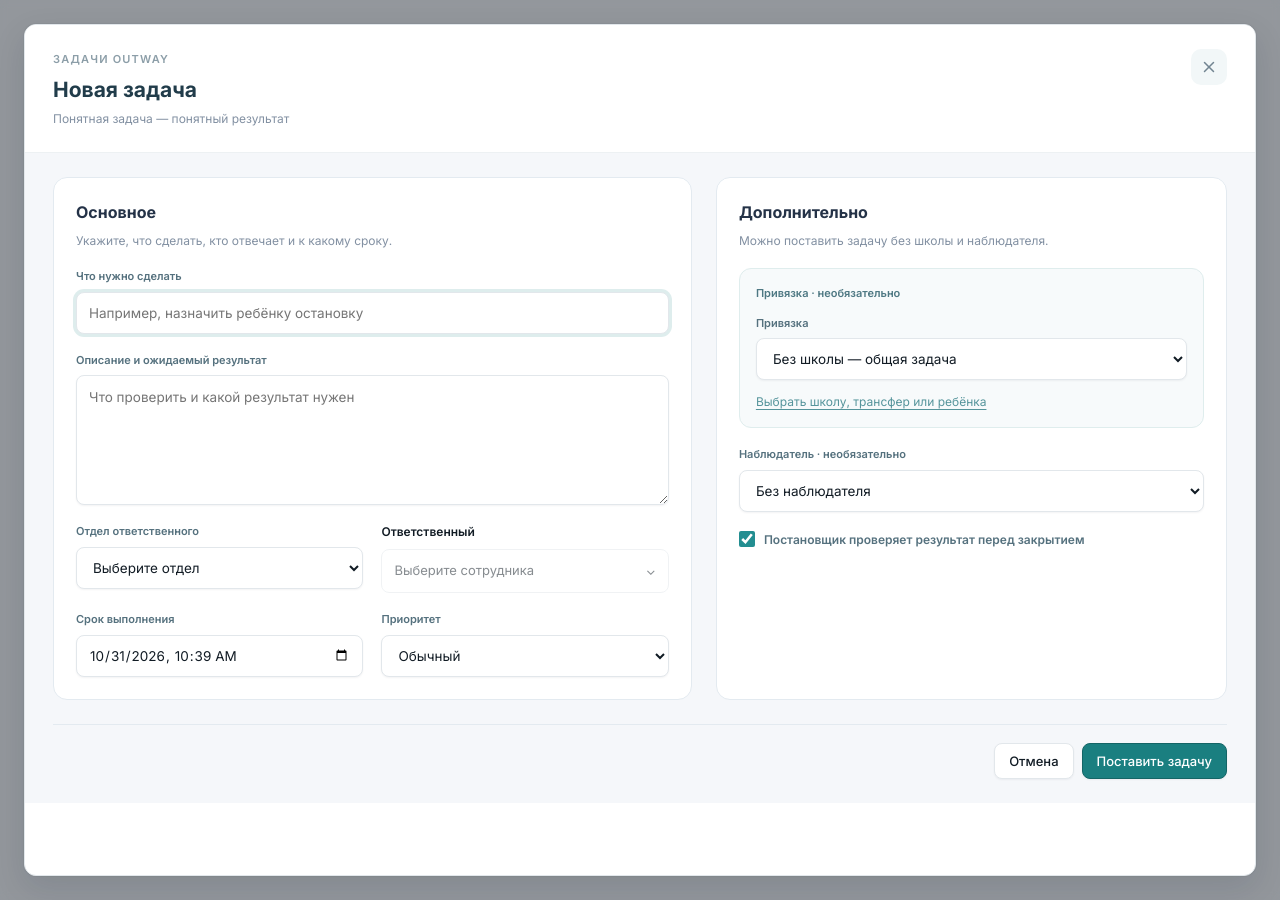
Test: old server never silently saves only the first selected participant
This screenshot has width=1280, height=900.
Step 1. Type "Общая задача" into the field labelled "Что нужно сделать" → [372, 313], box [76,292,669,334]
Step 2. Select "Менеджеры" in the dropdown labelled "Отдел ответственного" → [220, 568], box [76,547,363,589]
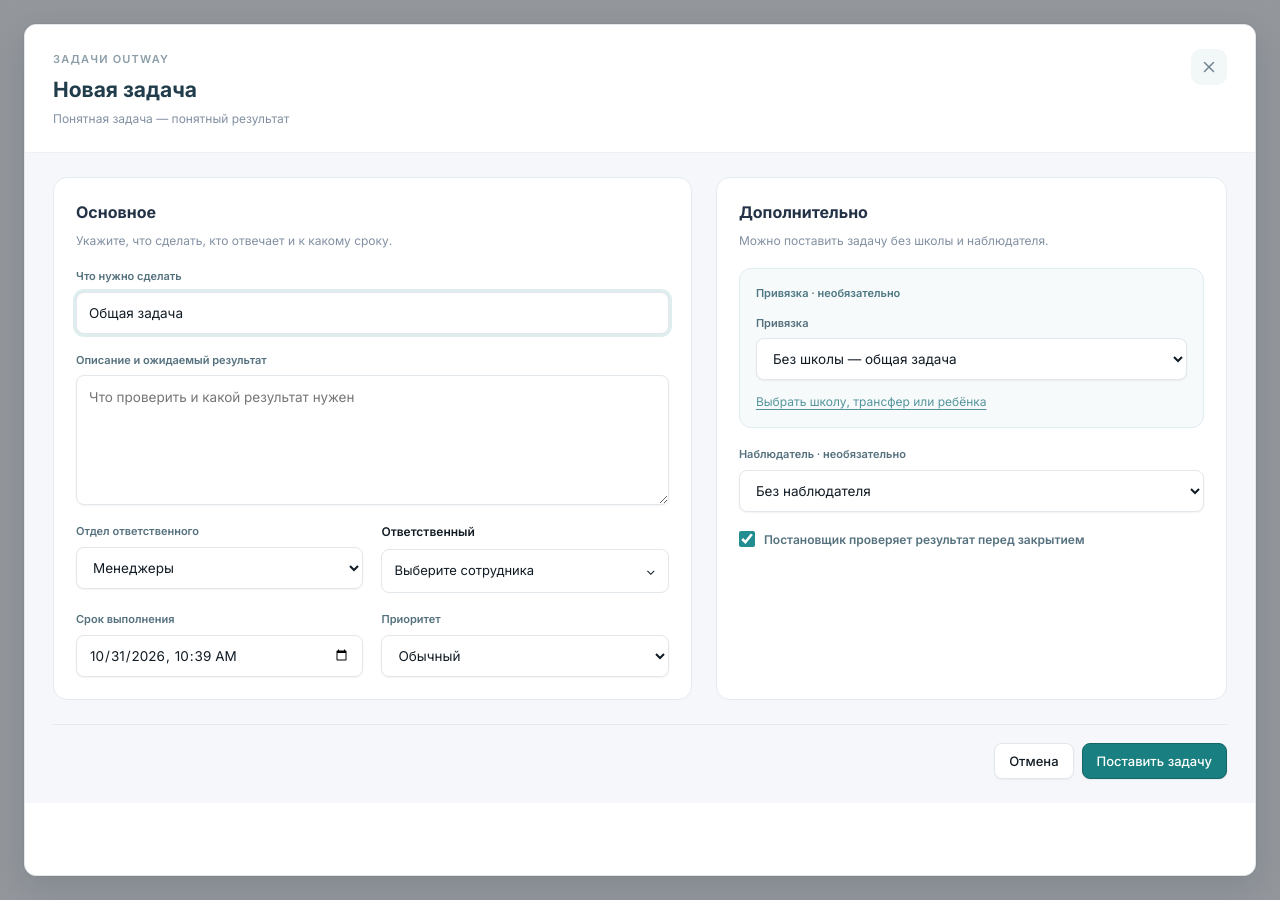
Step 3. Click the button with aria-label "Ответственный" → [525, 571], box [381,549,669,593]
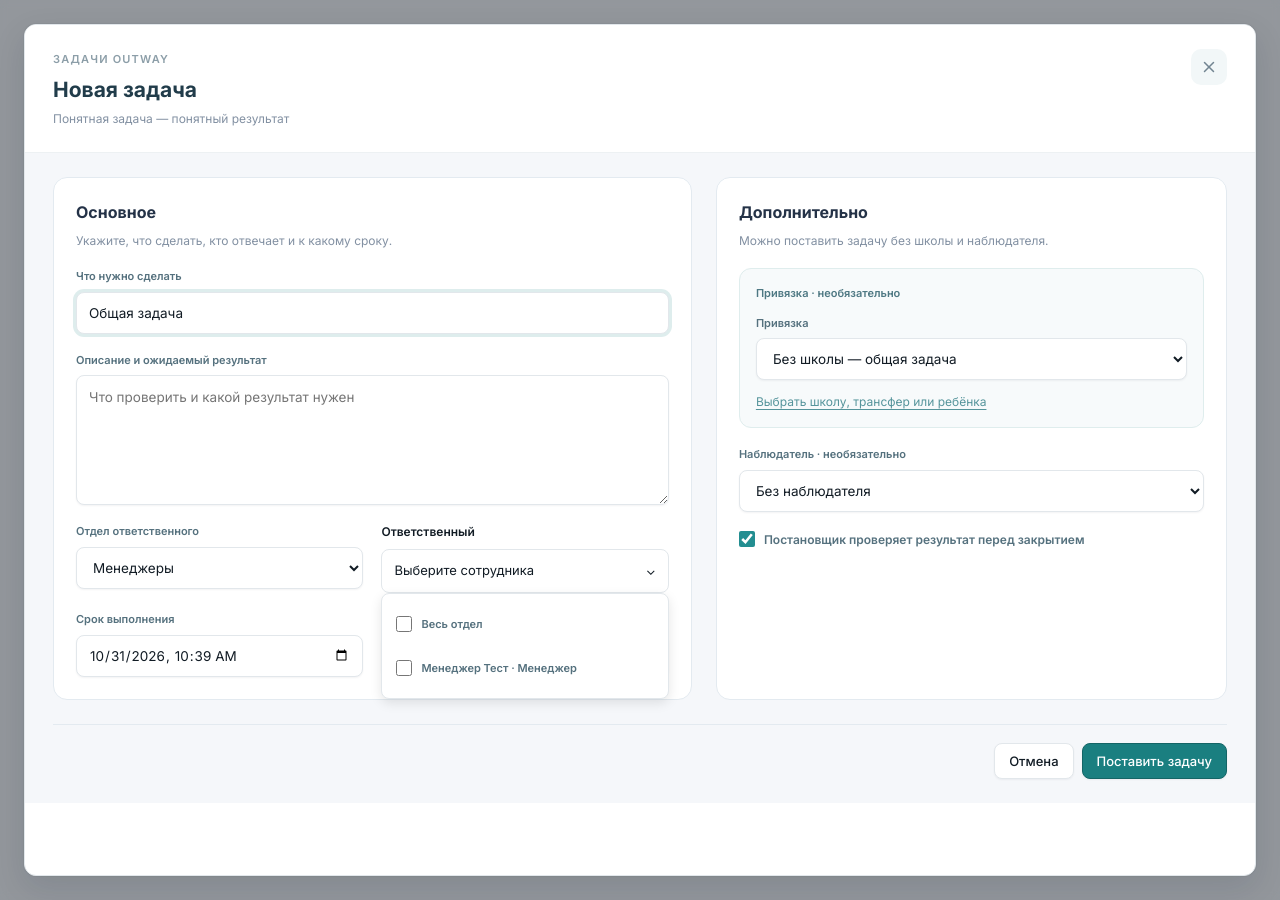
Step 4. Click the checkbox labelled "Менеджер Тест · Менеджер" → [404, 668], box [396,660,412,676]
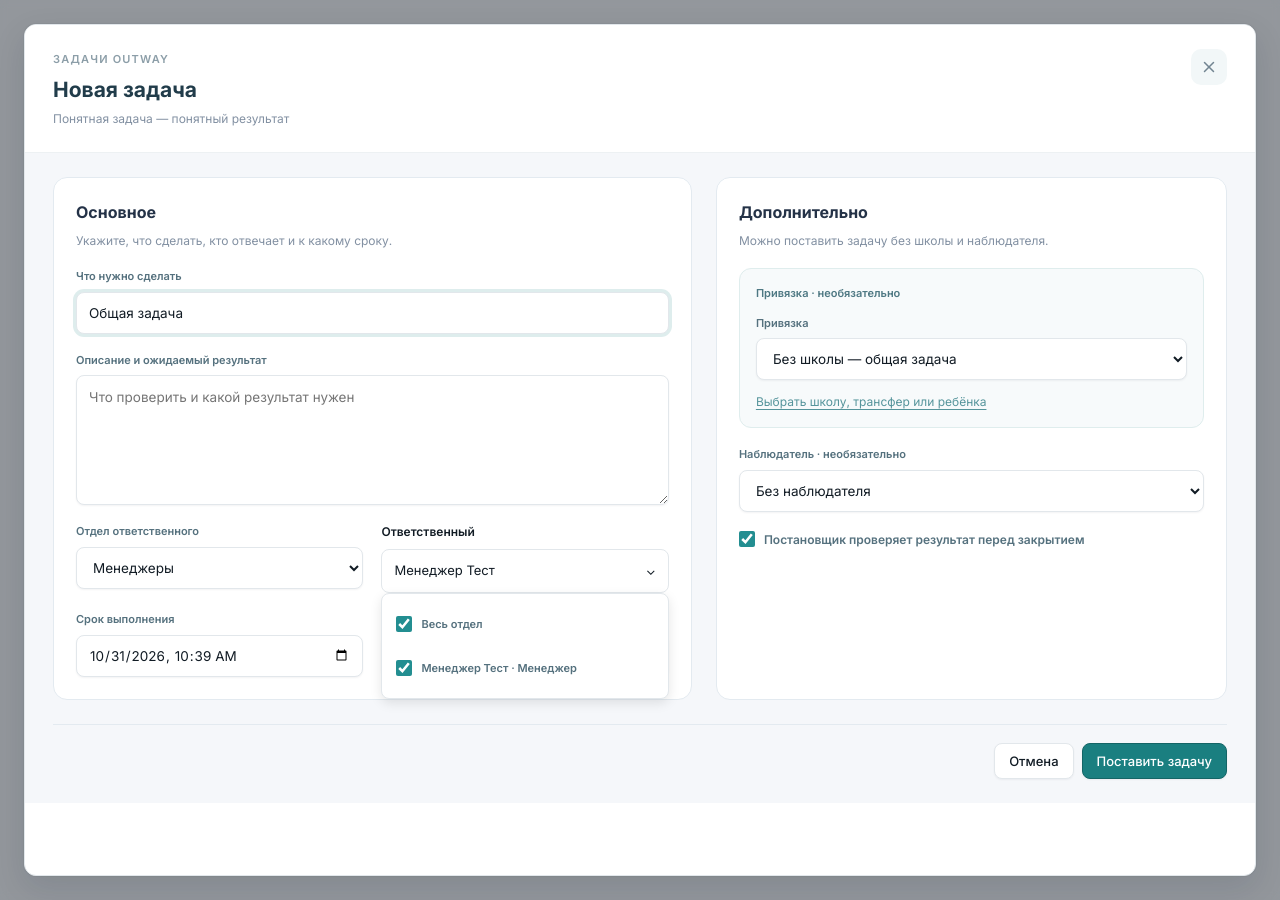
Step 5. Select "Логистика" in the dropdown labelled "Отдел ответственного" → [220, 568], box [76,547,363,589]
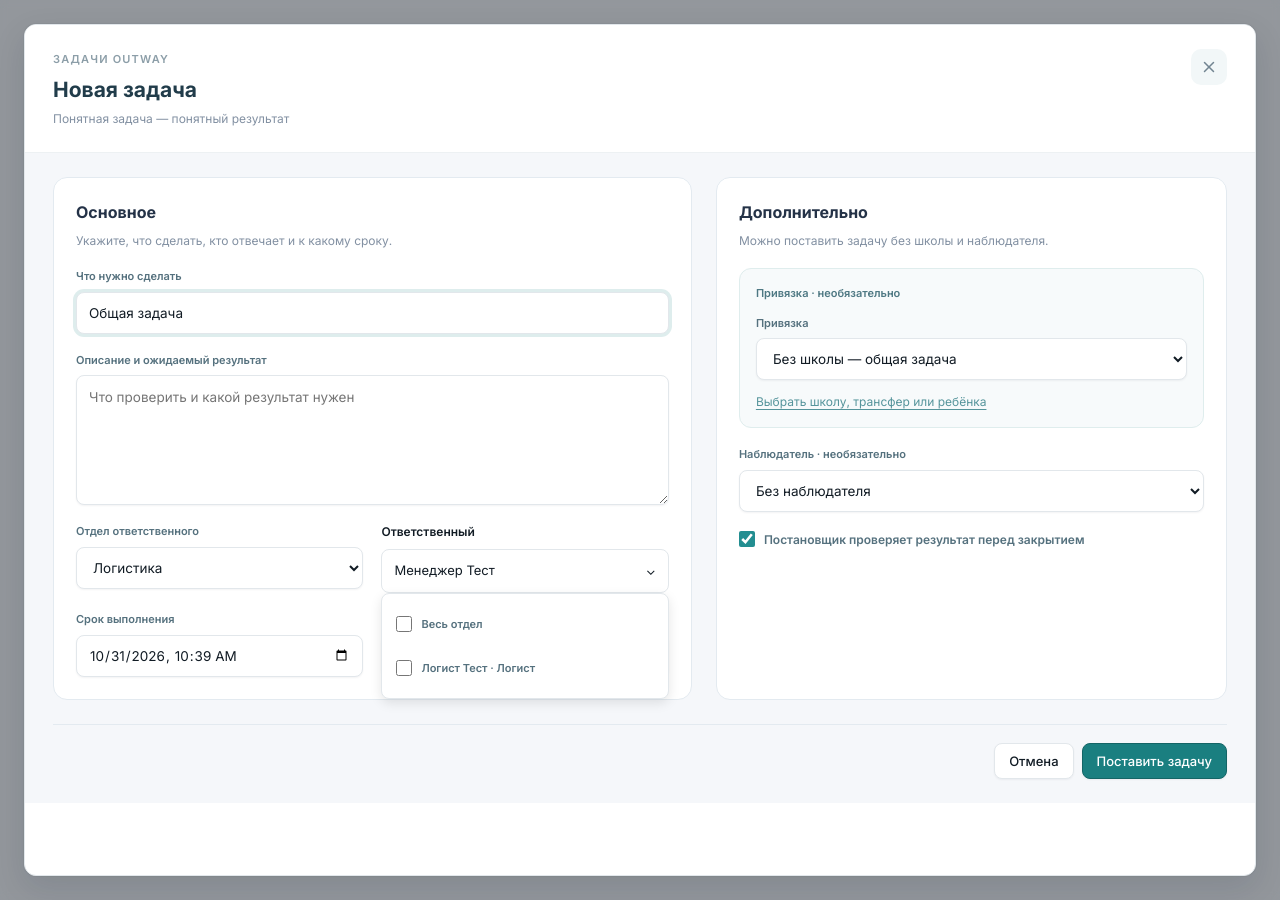
Step 6. Click the checkbox labelled "Логист Тест · Логист" → [404, 668], box [396,660,412,676]
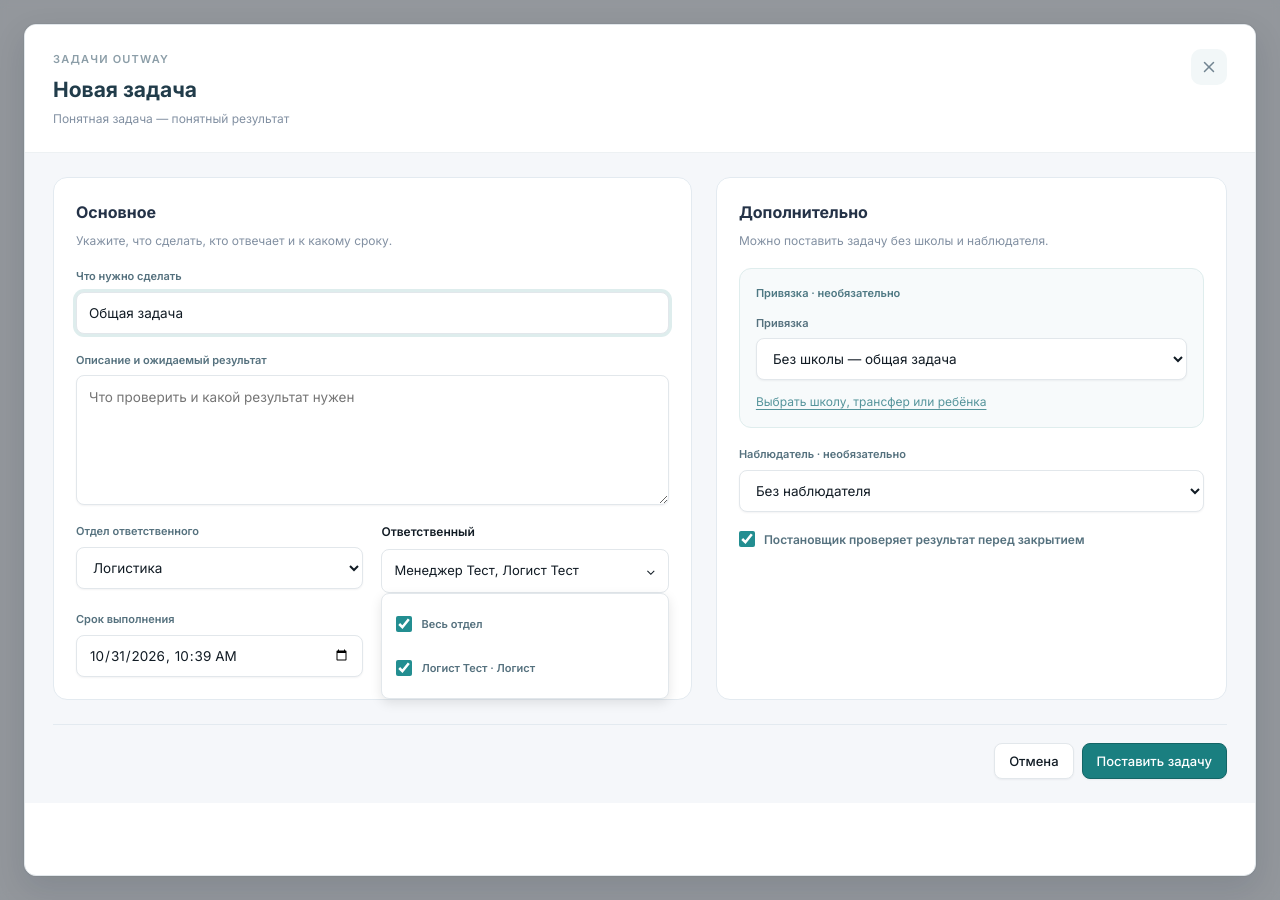
Step 7. Click the button "Поставить задачу" → [1154, 761], box [1082,743,1227,779]
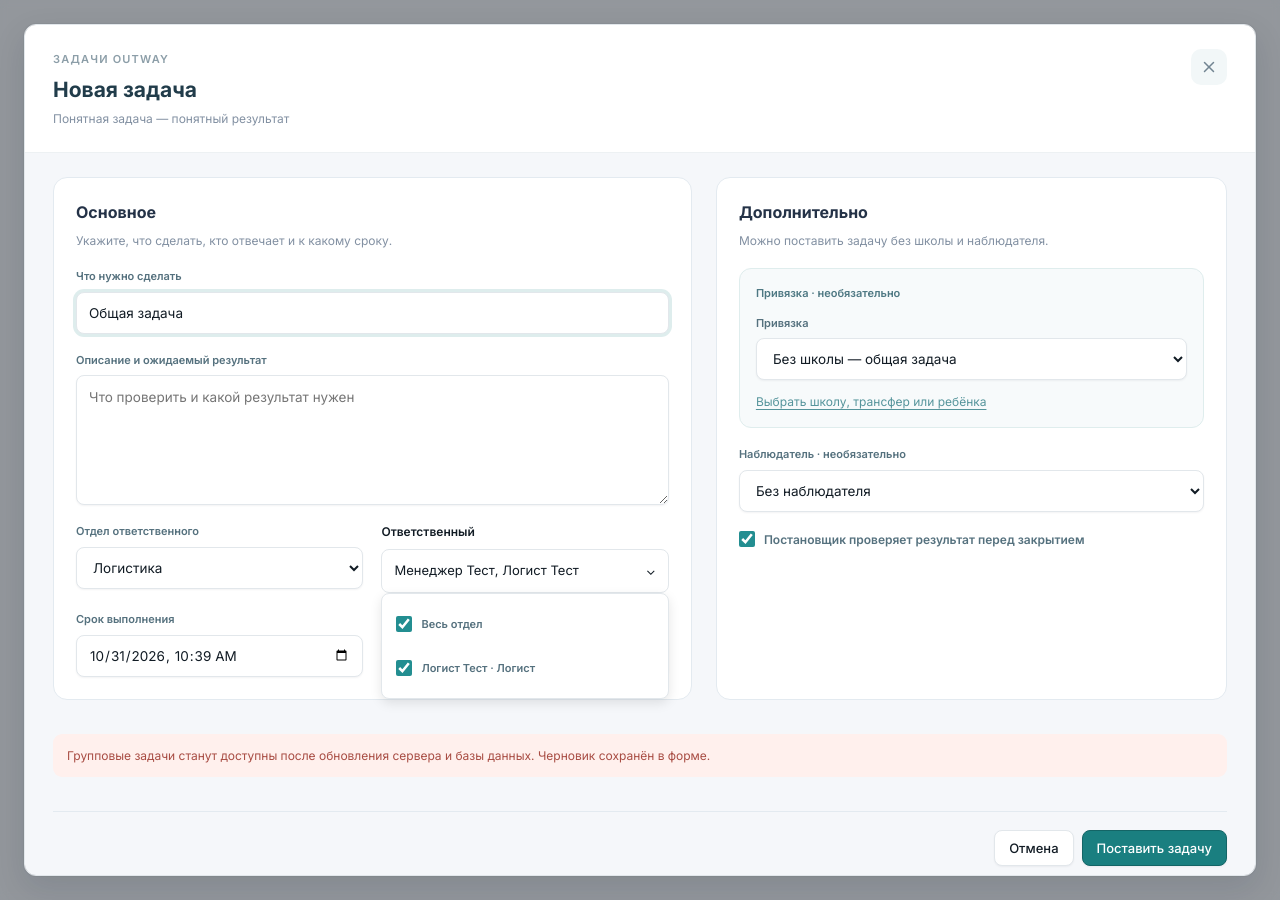
Result: the message shows "после обновления сервера" at [67,748,710,763]
